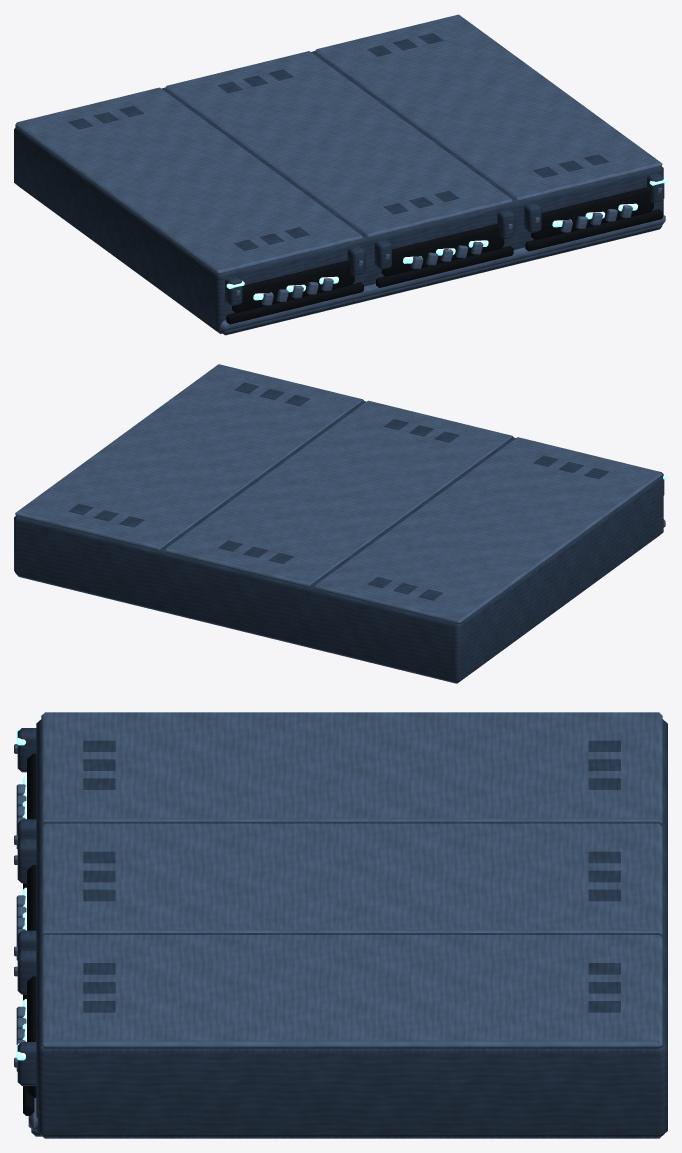
The model's file is sky_dock_deck.glb.
3 views of the same model, one above another, from view 1: azimuth 30°, elevation 25°; view 2: azimuth 150°, elevation 25°; view 3: azimuth 270°, elevation 25° (orthographic). The views are drawn at different scales.
Visible parts, largest first — view 1: sky_dock_deck - sky_dock trim, sky_dock_deck - sky_dock panels, sky_dock_deck - Recessed iron, sky_dock_deck - sky_dock accents; view 2: sky_dock_deck - sky_dock trim, sky_dock_deck - sky_dock panels; view 3: sky_dock_deck - sky_dock trim, sky_dock_deck - sky_dock panels, sky_dock_deck - Recessed iron.
Boxes of the visible parts, x1,y1,x2,y2 form: sky_dock_deck - sky_dock trim: [15, 14, 665, 331]; sky_dock_deck - sky_dock panels: [14, 33, 664, 335]; sky_dock_deck - Recessed iron: [226, 187, 663, 324]; sky_dock_deck - sky_dock accents: [226, 177, 667, 300]; sky_dock_deck - sky_dock trim: [15, 364, 665, 624]; sky_dock_deck - sky_dock panels: [14, 382, 664, 683]; sky_dock_deck - sky_dock trim: [14, 712, 662, 1130]; sky_dock_deck - sky_dock panels: [17, 719, 667, 1138]; sky_dock_deck - Recessed iron: [23, 753, 36, 1115].
Bounding box in the file's own units: 5.99 × 0.8325 × 4.97.
4 materials, 3 textured.
